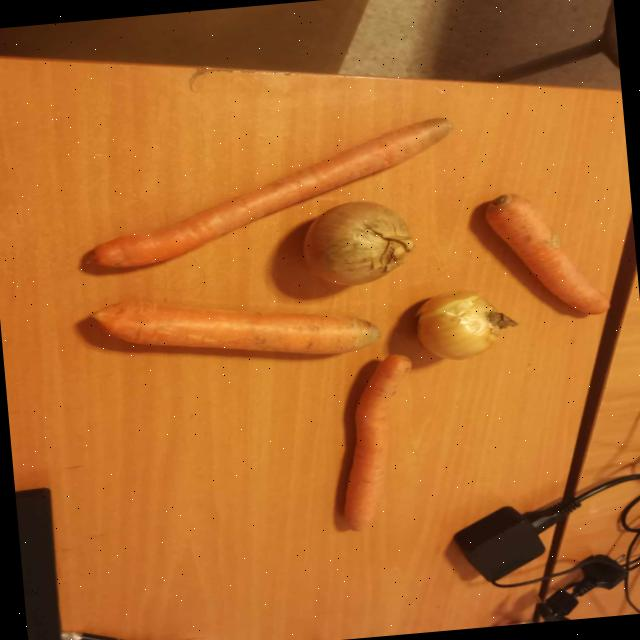carrot: (93, 116, 452, 266), (92, 300, 378, 353), (484, 193, 608, 314), (343, 352, 410, 530)
